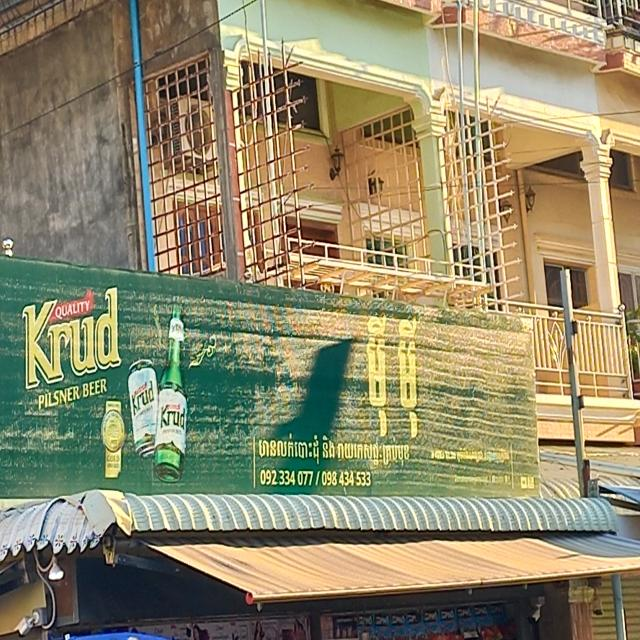2: (255, 429, 413, 469)
434: (255, 467, 376, 490)
Yolov11kh: (363, 314, 424, 440)
